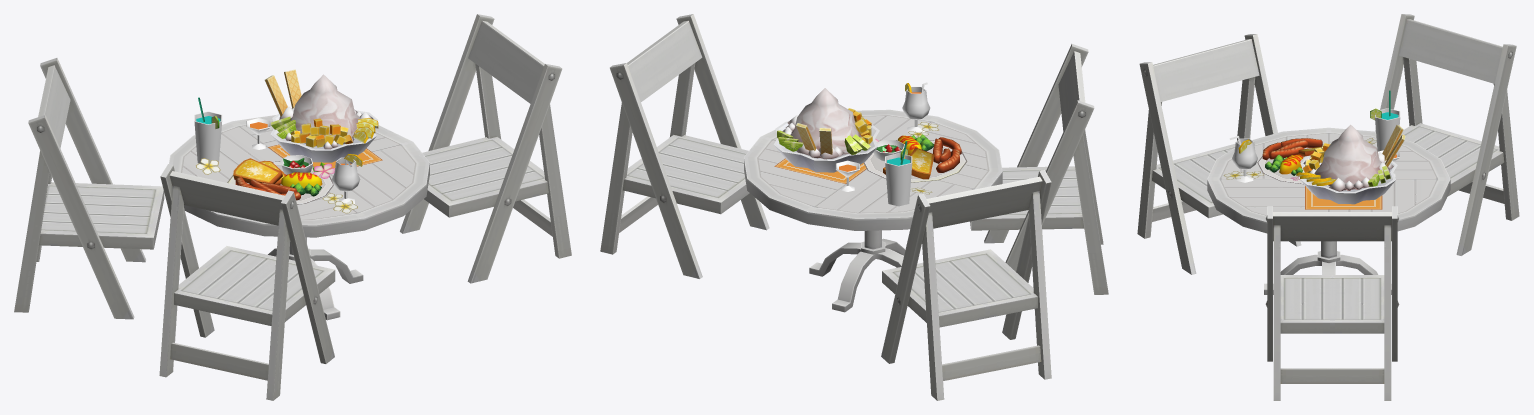
The model's file is my_ariussummer_01_table_01.glb.
3 renders of one model, left to right at view 1: azimuth 30°, elevation 25°; view 2: azimuth 150°, elevation 25°; view 3: azimuth 270°, elevation 25°, orthographic. The views are drawn at different scales.
Visible parts, largest first — view 1: my_ariussummer_01_table_01, my_ariussummer_01_table_01_a; view 2: my_ariussummer_01_table_01, my_ariussummer_01_table_01_a; view 3: my_ariussummer_01_table_01, my_ariussummer_01_table_01_a.
Part boxes in pixels (<box>): my_ariussummer_01_table_01: <box>14,14,571,400</box>; my_ariussummer_01_table_01_a: <box>194,111,360,204</box>; my_ariussummer_01_table_01: <box>600,14,1108,400</box>; my_ariussummer_01_table_01_a: <box>835,86,930,206</box>; my_ariussummer_01_table_01: <box>1137,14,1519,400</box>; my_ariussummer_01_table_01_a: <box>1232,108,1400,182</box>.
Bounding box in the file's own units: 0.0153 × 0.00616 × 0.0116.
Materials: 2 (2 with a texture image).
